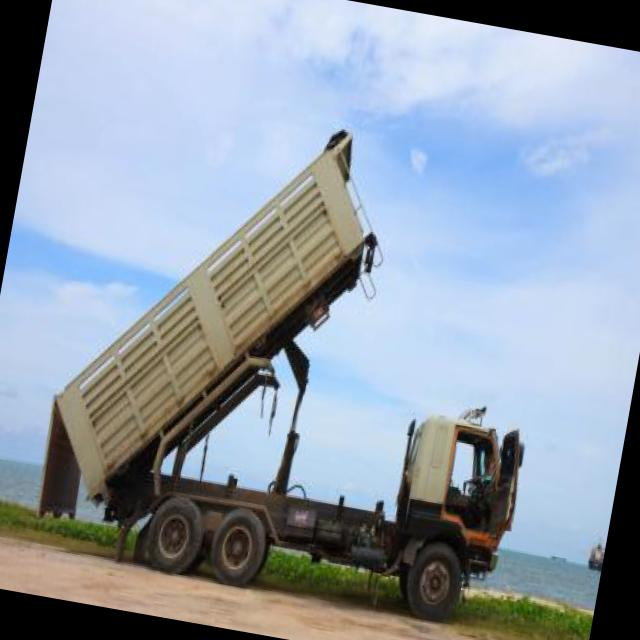Camion volquete: (24, 84, 577, 638)
